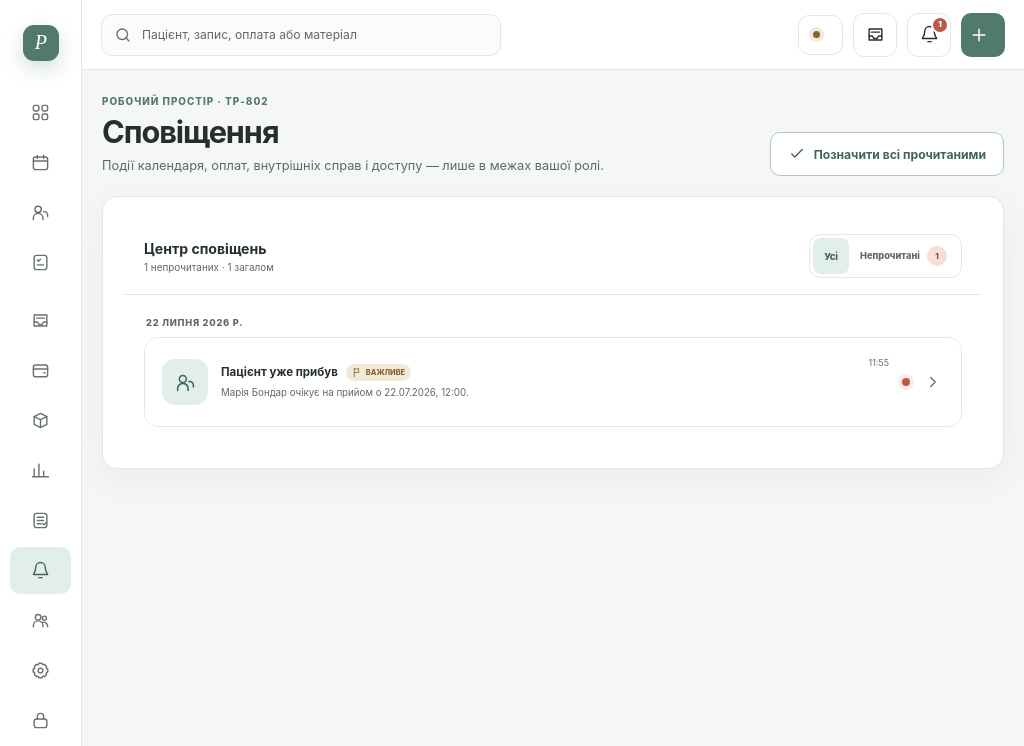
notifications center › keeps the item in place after a read failure and supports retry
Click the button with aria-label "Непрочитане сповіщення: Пацієнт уже прибув" at x=185, y=382, box [145, 338, 961, 426]
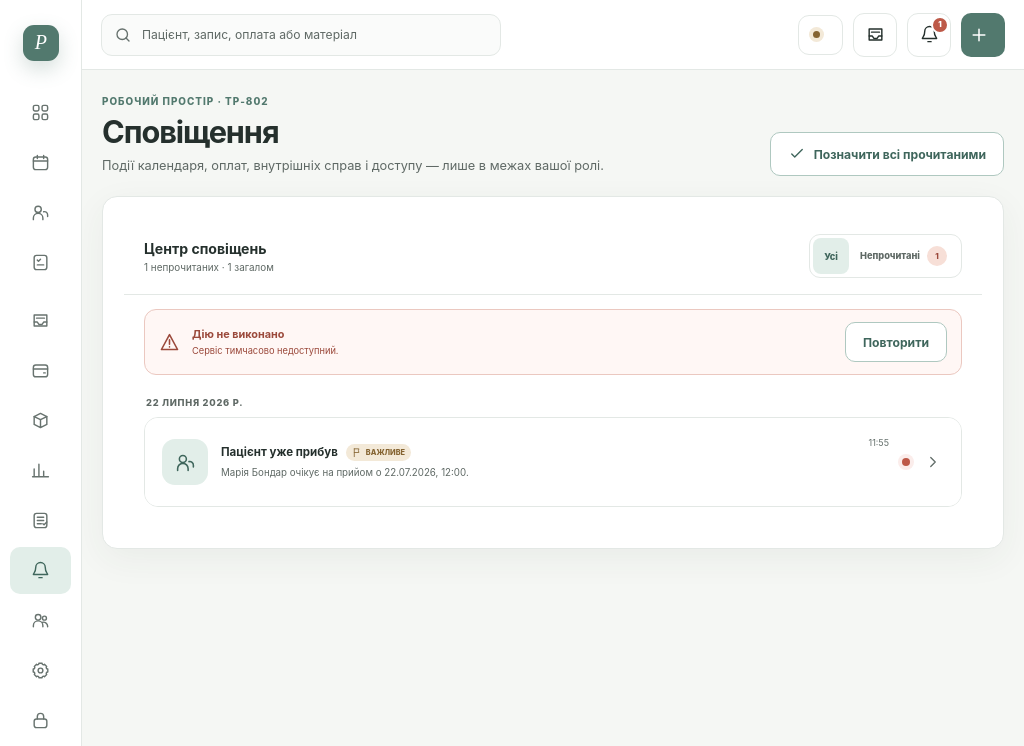
Expected: the heading "Сповіщення" is shown, [102, 113, 278, 150]
Now the message shows "Сервіс тимчасово недоступний", box [192, 345, 338, 356]
Click the button "Повторити" at x=896, y=342, box [845, 322, 947, 362]
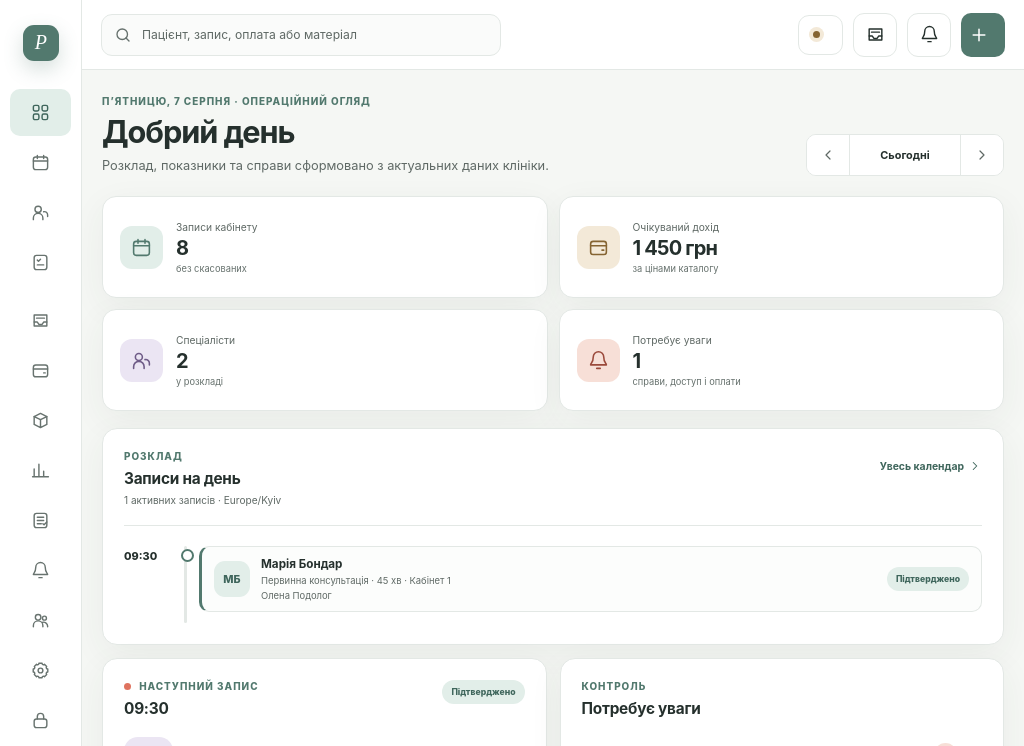
Now the heading "Добрий день" is shown, box [102, 113, 294, 150]
